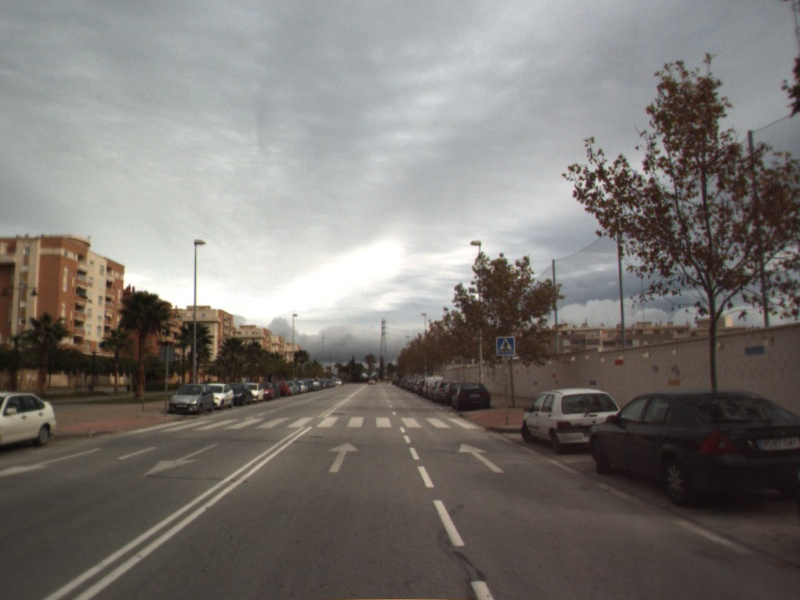STRAIGHT: (457, 440, 507, 475), (326, 439, 362, 474)
